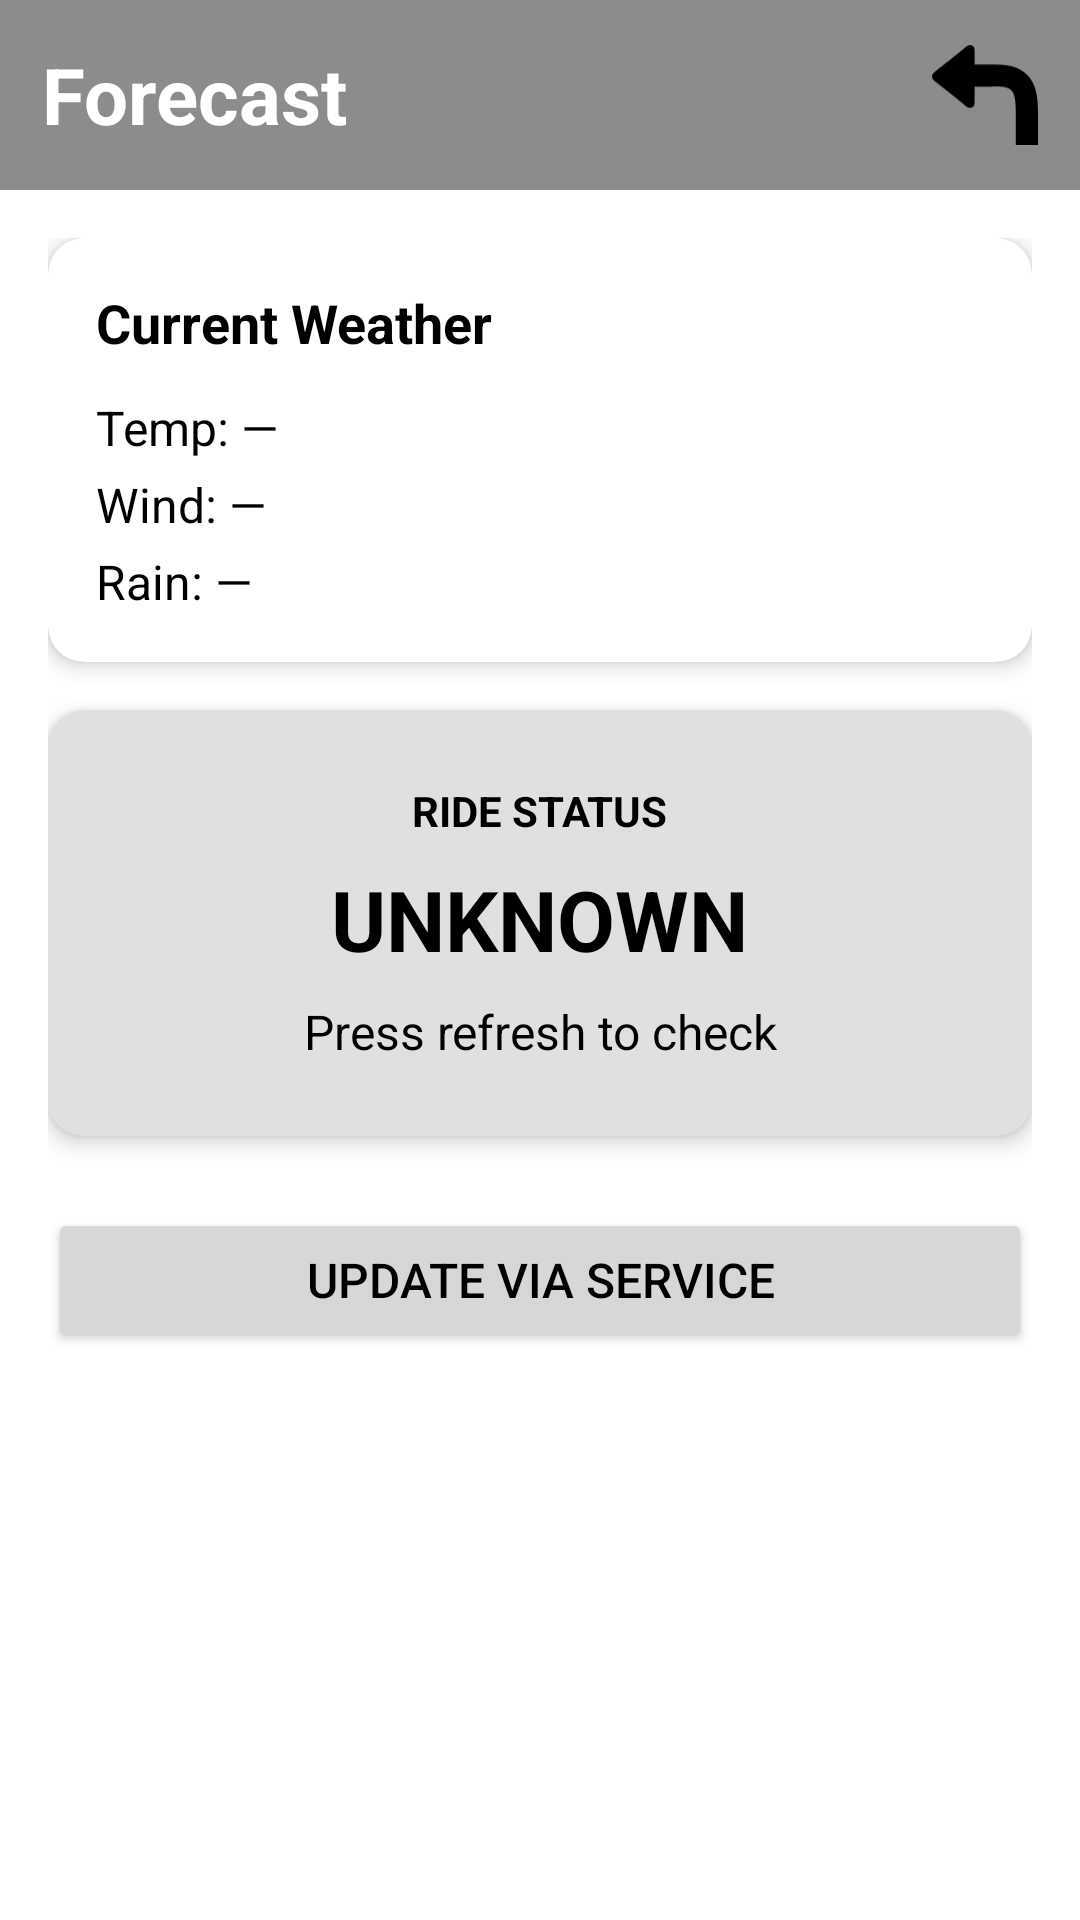

Named icons in this screenshot (1080x1920) and their centers, (x=x, y=y):
Go back: (x=985, y=95)
